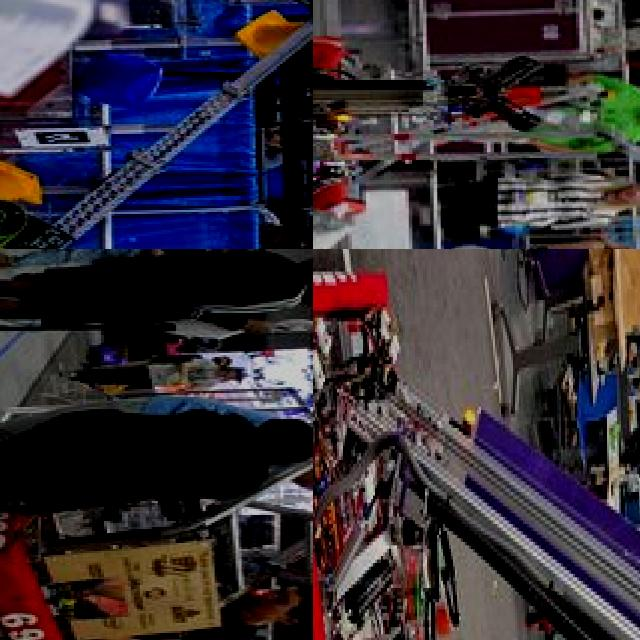FRC-Robots: (313, 249, 640, 640), (0, 0, 313, 249), (0, 459, 313, 640), (313, 0, 537, 206), (313, 38, 434, 240)
